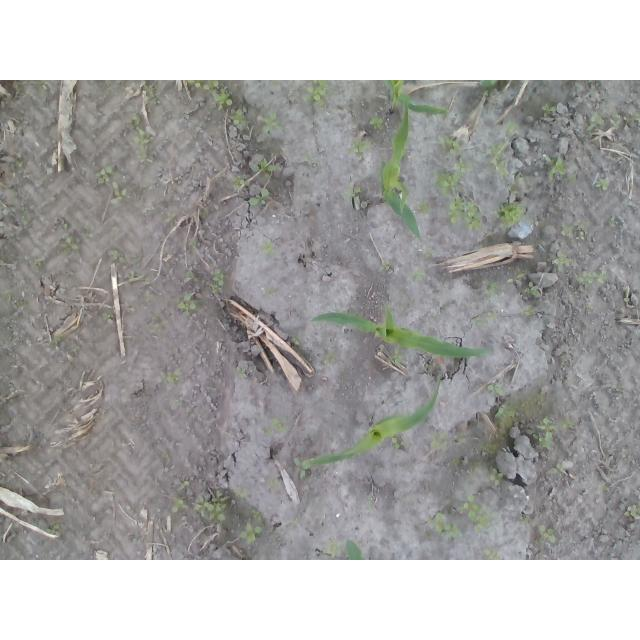Maize: (301, 379, 443, 469), (309, 304, 493, 361), (379, 99, 424, 241), (384, 81, 449, 116), (343, 538, 364, 560)
Weeds: (431, 169, 485, 233), (423, 495, 495, 539), (172, 489, 229, 523), (443, 135, 477, 173), (131, 112, 153, 165), (97, 164, 128, 201), (239, 508, 264, 546), (544, 155, 576, 184), (489, 141, 512, 175), (303, 80, 329, 108), (537, 413, 557, 449), (495, 202, 526, 225), (606, 111, 640, 130), (248, 189, 275, 211), (258, 112, 281, 136), (176, 291, 201, 313), (573, 271, 609, 286), (249, 156, 280, 173), (0, 287, 28, 305), (228, 107, 252, 126), (293, 457, 311, 482), (561, 224, 586, 241), (260, 418, 288, 433), (213, 90, 232, 112), (183, 81, 220, 92), (537, 524, 556, 545), (587, 111, 605, 133), (209, 270, 223, 297), (61, 234, 79, 255), (341, 185, 365, 200), (430, 431, 450, 449), (476, 311, 497, 328), (477, 80, 496, 98), (551, 255, 569, 272), (161, 368, 180, 384), (350, 139, 370, 154), (489, 468, 504, 488), (504, 117, 520, 135), (110, 248, 126, 265), (48, 334, 64, 350), (483, 548, 504, 560), (495, 404, 514, 417), (510, 176, 523, 195), (624, 504, 640, 519), (325, 543, 340, 558), (368, 115, 384, 129), (487, 383, 505, 395), (82, 224, 95, 240), (559, 417, 575, 430), (594, 178, 611, 190), (520, 306, 538, 317), (177, 478, 192, 491), (389, 349, 402, 363), (323, 350, 337, 363), (486, 281, 498, 296), (416, 202, 431, 214), (163, 214, 178, 226), (232, 487, 248, 498), (19, 207, 29, 224), (233, 176, 246, 189), (607, 215, 622, 226), (409, 272, 426, 281), (46, 524, 61, 534), (366, 495, 374, 513), (262, 242, 273, 255), (267, 479, 280, 490), (237, 367, 248, 378), (34, 256, 44, 268), (15, 161, 26, 171), (542, 103, 555, 111), (41, 81, 50, 92), (103, 312, 114, 321), (292, 335, 301, 346), (514, 270, 526, 278), (527, 288, 537, 297), (422, 248, 431, 258), (520, 516, 531, 524), (598, 484, 609, 492), (72, 344, 81, 353), (304, 152, 313, 161), (392, 440, 401, 449), (183, 270, 193, 278), (383, 261, 390, 272), (557, 462, 564, 470), (63, 223, 70, 229)
